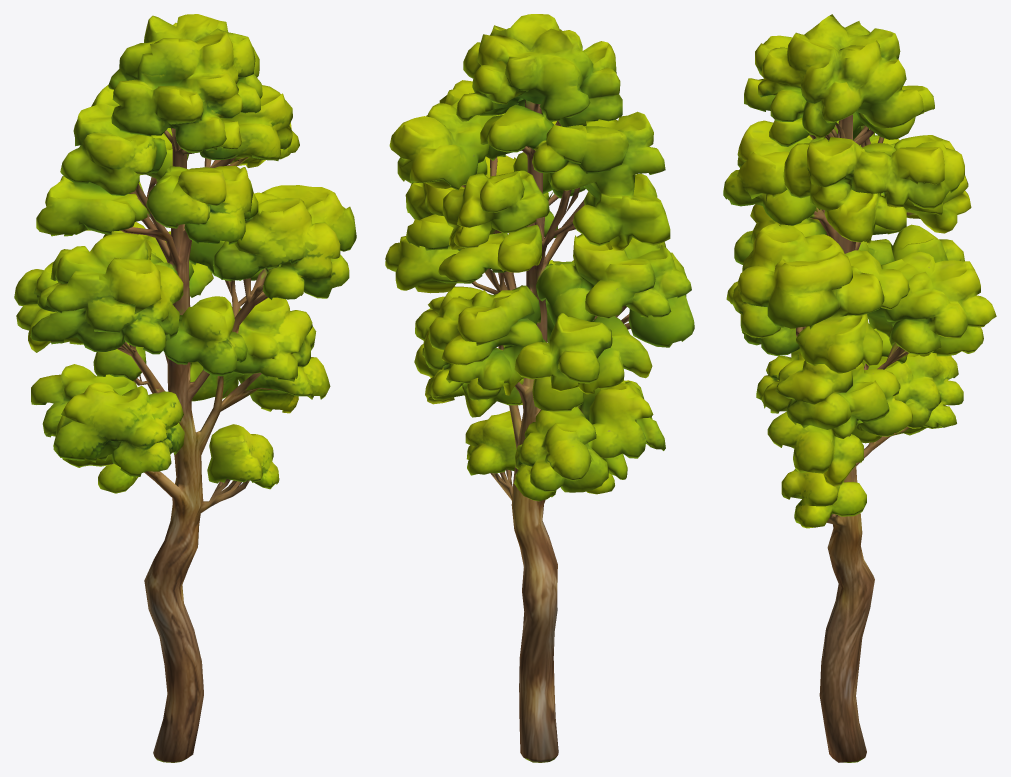
The model's file is broadleaf_tree.glb.
3 views of the same model, side by side, from view 1: azimuth 30°, elevation 25°; view 2: azimuth 150°, elevation 25°; view 3: azimuth 270°, elevation 25° (orthographic).
Visible parts, largest first — view 1: tripo_node_2c405085-a75c-48a4-b706-463b428d4ae8; view 2: tripo_node_2c405085-a75c-48a4-b706-463b428d4ae8; view 3: tripo_node_2c405085-a75c-48a4-b706-463b428d4ae8.
Boxes of the visible parts, left/top/right/bottom form: tripo_node_2c405085-a75c-48a4-b706-463b428d4ae8: left=14, top=14, right=356, bottom=762; tripo_node_2c405085-a75c-48a4-b706-463b428d4ae8: left=385, top=14, right=694, bottom=762; tripo_node_2c405085-a75c-48a4-b706-463b428d4ae8: left=723, top=14, right=996, bottom=762.
Bounding box in the file's own units: 0.4269 × 0.9783 × 0.3312.
1 material, 1 textured.
